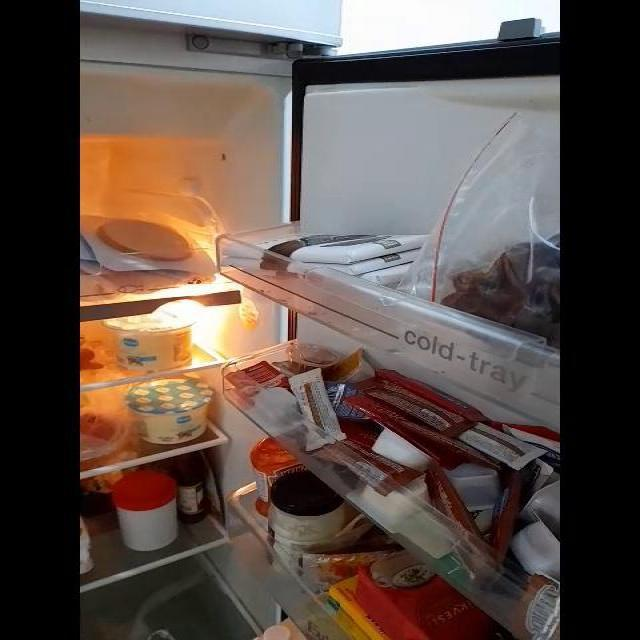butter: (318, 578, 482, 637)
chocolate: (239, 230, 412, 283)
dates: (452, 237, 564, 341)
salami: (87, 213, 205, 271)
sauce: (253, 436, 306, 482), (172, 455, 209, 518)
yoghurt: (102, 316, 202, 371), (130, 379, 213, 441)
